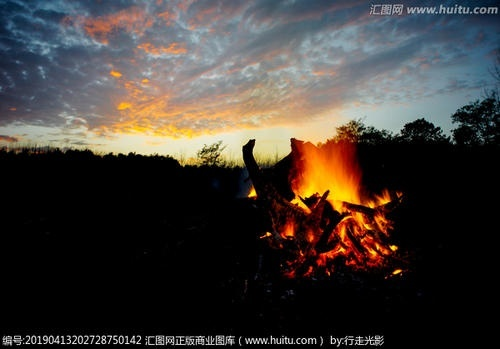fire: (270, 142, 402, 273)
